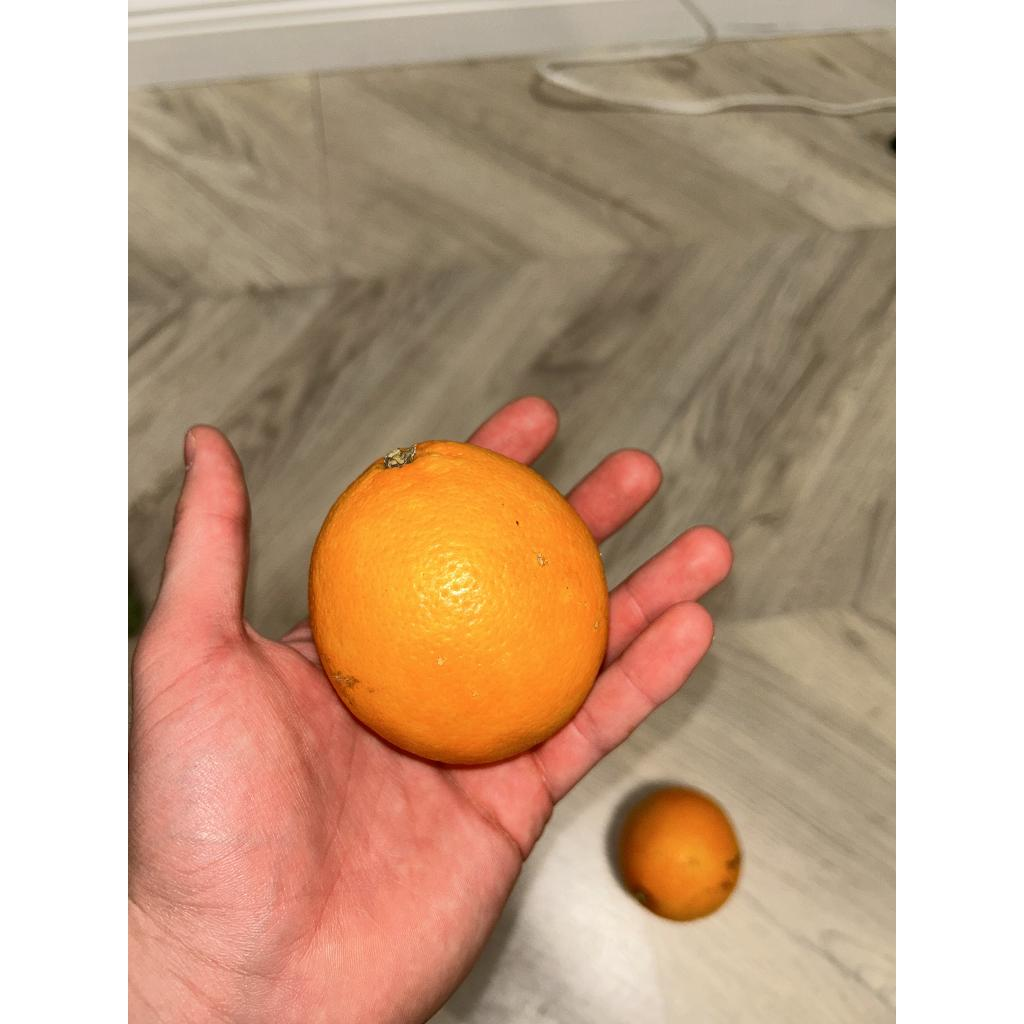orange: (310, 440, 608, 764), (620, 788, 740, 920)
